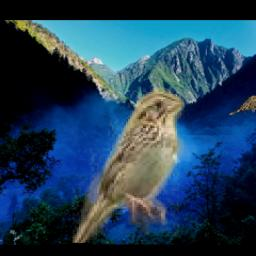Sparrow: (69, 89, 185, 244), (229, 96, 256, 116)
